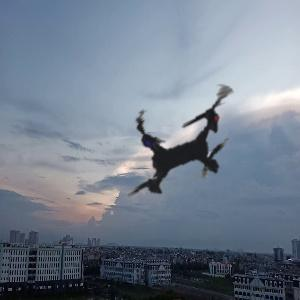drone: (73, 38, 293, 258)
